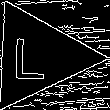L_N: (19, 30, 57, 82)
